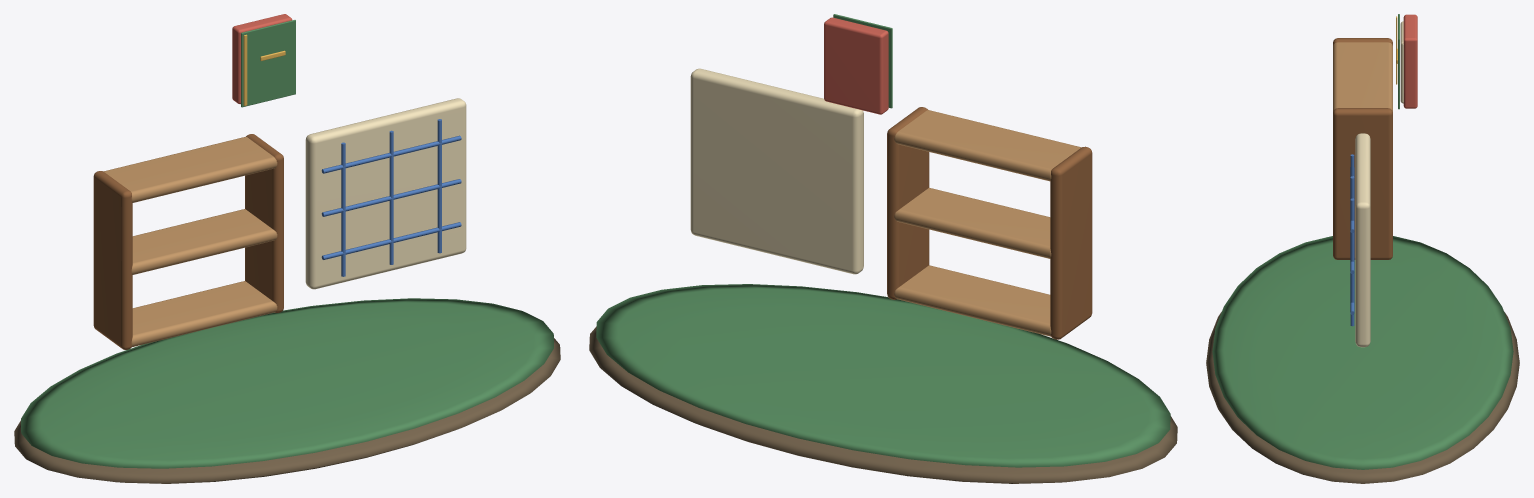
File: complete-third-ordered-reason.glb
3 views of the same model, side by side, from view 1: azimuth 30°, elevation 25°; view 2: azimuth 150°, elevation 25°; view 3: azimuth 270°, elevation 25° (orthographic). The views are drawn at different scales.
Parts seen in each view (by area): view 1: complete-third-ordered-reason_surface_01, complete-third-ordered-reason_surface_04, complete-third-ordered-reason_surface_02, complete-third-ordered-reason_surface_03, complete-third-ordered-reason_surface_00, complete-third-ordered-reason_surface_05, complete-third-ordered-reason_surface_06; view 2: complete-third-ordered-reason_surface_01, complete-third-ordered-reason_surface_04, complete-third-ordered-reason_surface_02, complete-third-ordered-reason_surface_03, complete-third-ordered-reason_surface_00, complete-third-ordered-reason_surface_06; view 3: complete-third-ordered-reason_surface_01, complete-third-ordered-reason_surface_03, complete-third-ordered-reason_surface_00, complete-third-ordered-reason_surface_02, complete-third-ordered-reason_surface_04, complete-third-ordered-reason_surface_06, complete-third-ordered-reason_surface_05.
Part boxes in pixels (x1,y1,x2,y2): complete-third-ordered-reason_surface_01: [21, 20, 553, 468]; complete-third-ordered-reason_surface_04: [305, 98, 466, 289]; complete-third-ordered-reason_surface_02: [103, 136, 277, 346]; complete-third-ordered-reason_surface_03: [93, 134, 283, 349]; complete-third-ordered-reason_surface_00: [14, 338, 560, 483]; complete-third-ordered-reason_surface_05: [321, 119, 461, 276]; complete-third-ordered-reason_surface_06: [232, 14, 292, 104]; complete-third-ordered-reason_surface_01: [596, 14, 1170, 467]; complete-third-ordered-reason_surface_04: [690, 68, 863, 274]; complete-third-ordered-reason_surface_02: [894, 110, 1081, 336]; complete-third-ordered-reason_surface_03: [887, 107, 1092, 339]; complete-third-ordered-reason_surface_00: [589, 326, 1177, 483]; complete-third-ordered-reason_surface_06: [824, 17, 888, 114]; complete-third-ordered-reason_surface_01: [1212, 14, 1513, 469]; complete-third-ordered-reason_surface_03: [1333, 38, 1392, 259]; complete-third-ordered-reason_surface_00: [1206, 312, 1519, 483]; complete-third-ordered-reason_surface_02: [1333, 42, 1392, 111]; complete-third-ordered-reason_surface_04: [1355, 21, 1403, 347]; complete-third-ordered-reason_surface_06: [1403, 14, 1417, 108]; complete-third-ordered-reason_surface_05: [1350, 154, 1354, 326].
Size of the model in its own units: 4.56 by 3.09 by 2.5.
